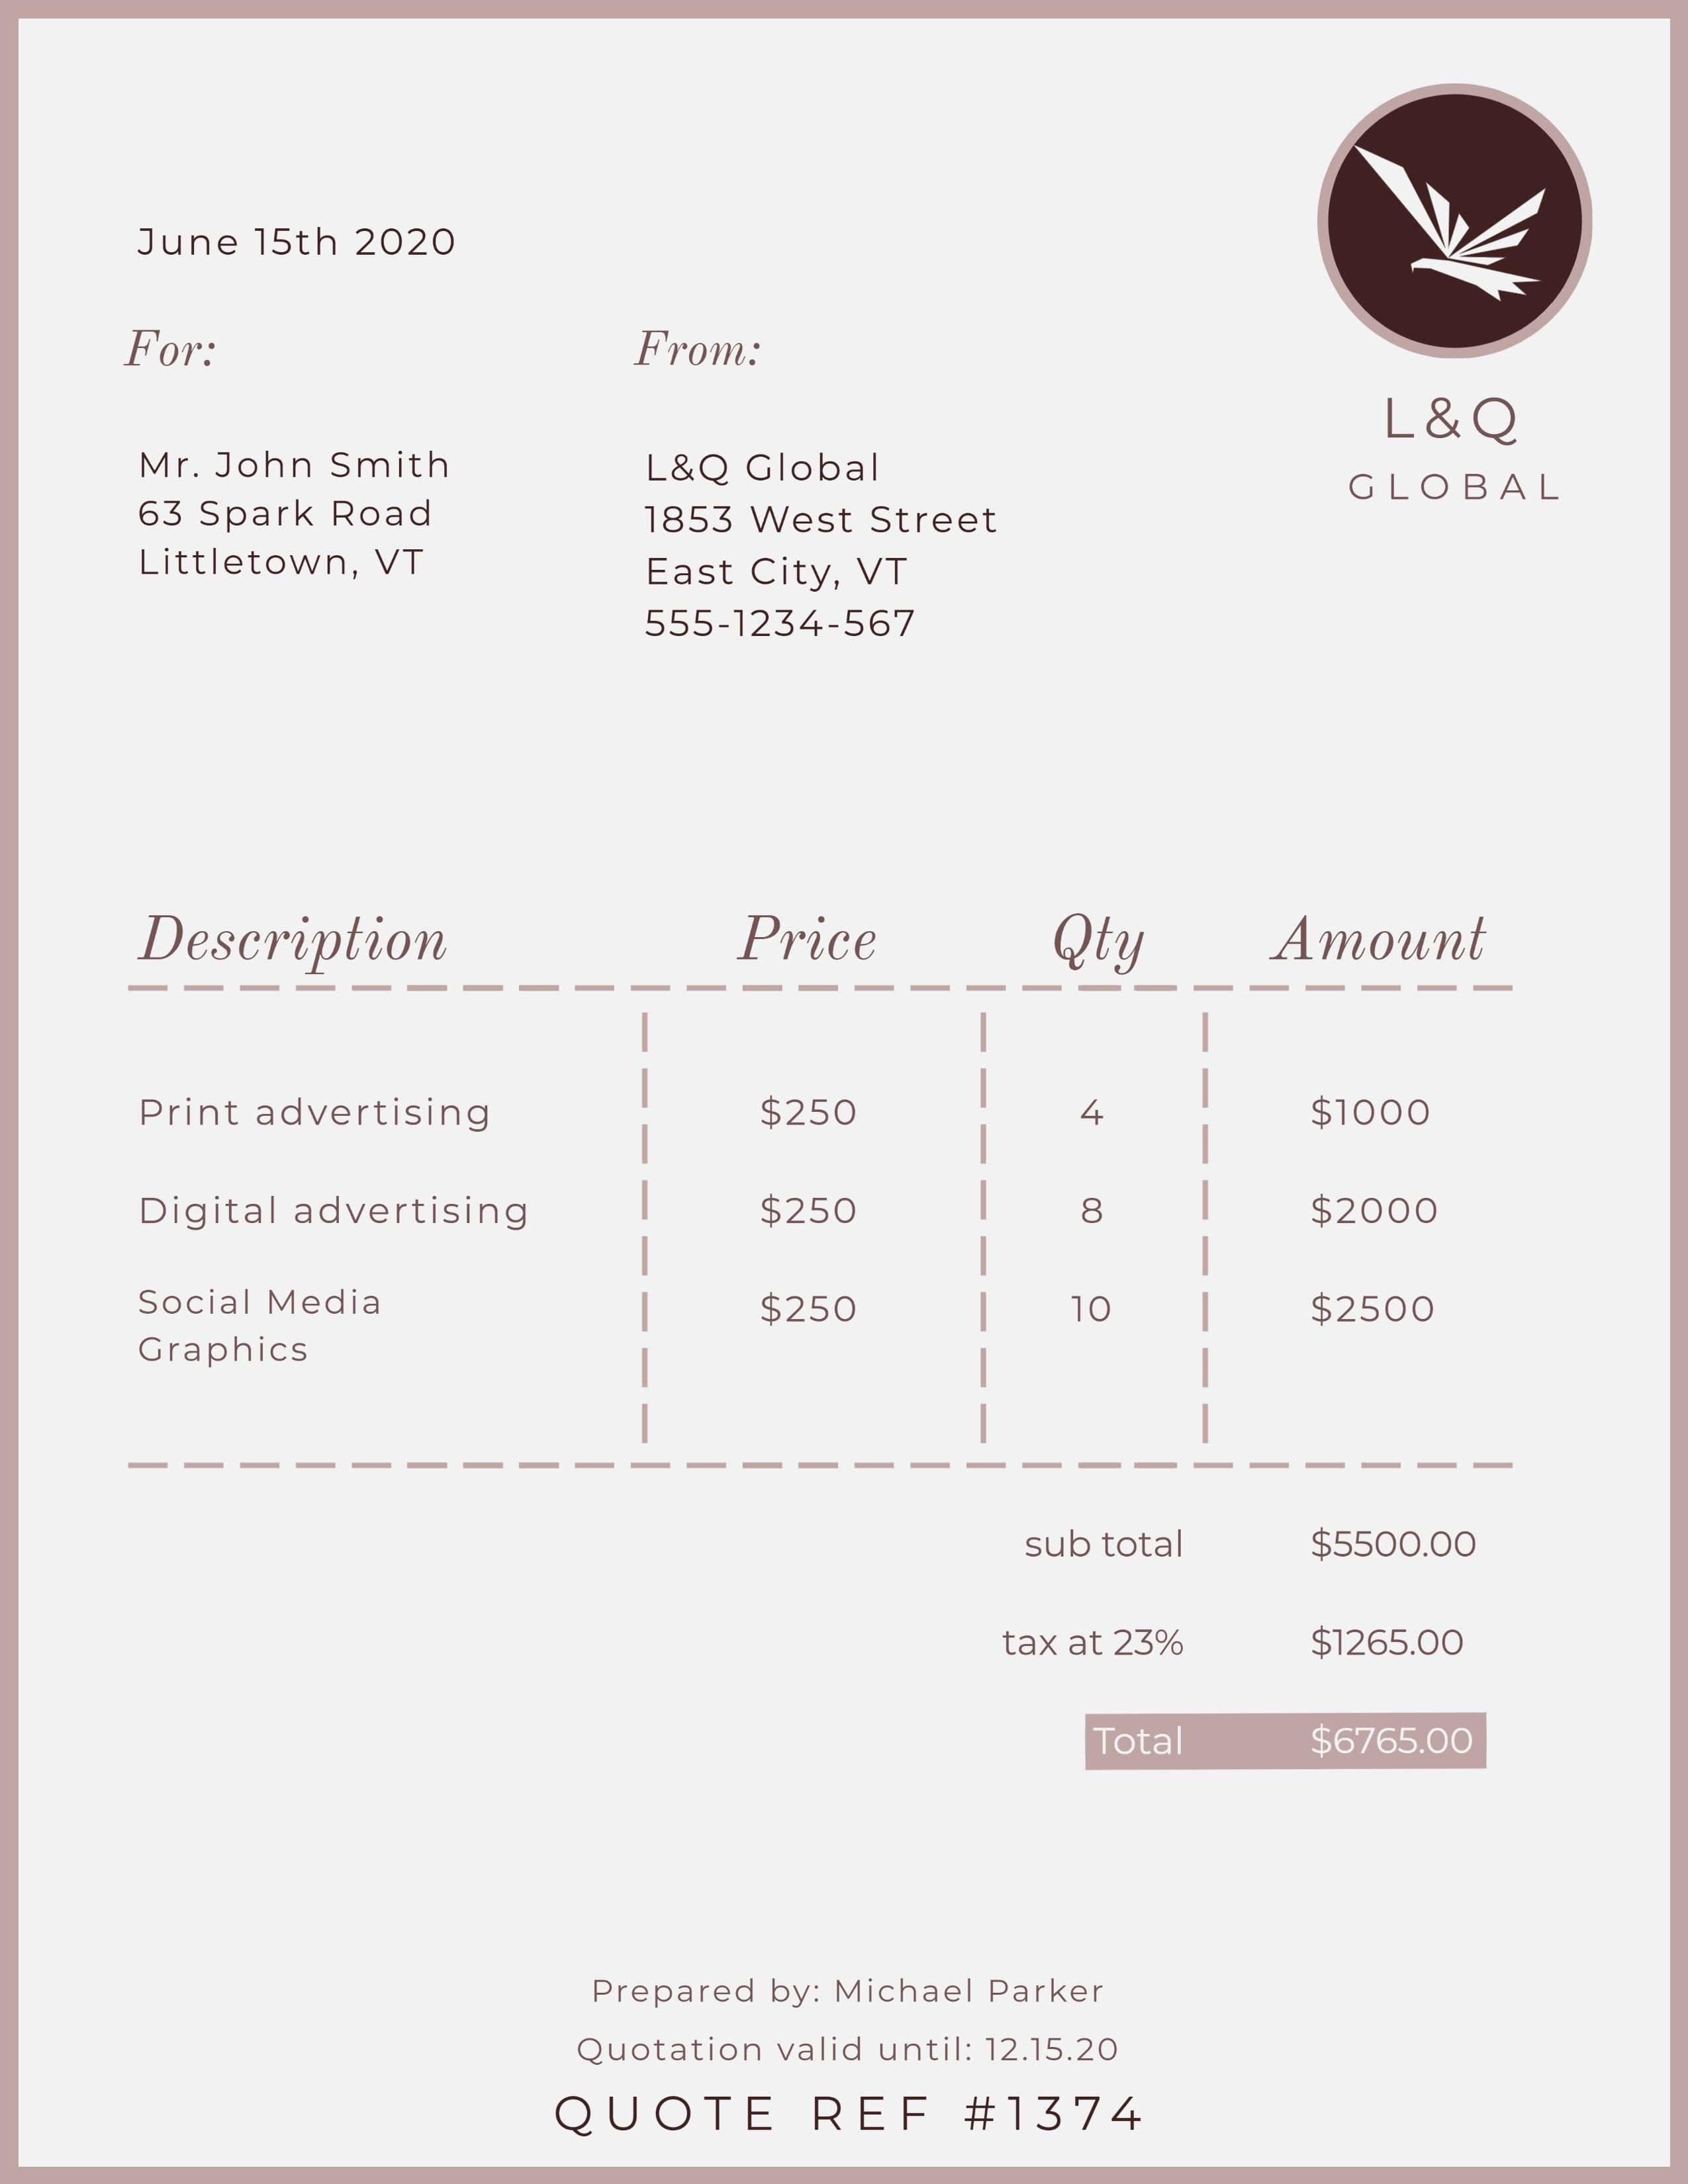ROI: (81, 893, 1531, 1439), (992, 1516, 1540, 1803), (603, 323, 1035, 670), (85, 299, 479, 627), (543, 2073, 1190, 2158)
